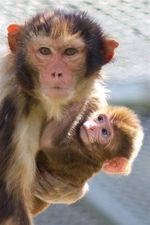monkey: (0, 7, 139, 188), (53, 99, 147, 220)
